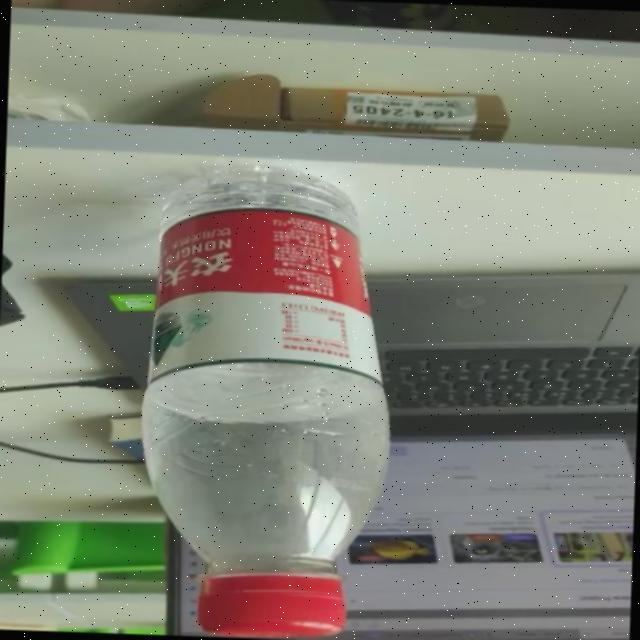bottle: (129, 164, 395, 640)
cap: (193, 574, 358, 640)
label: (133, 214, 403, 378)
